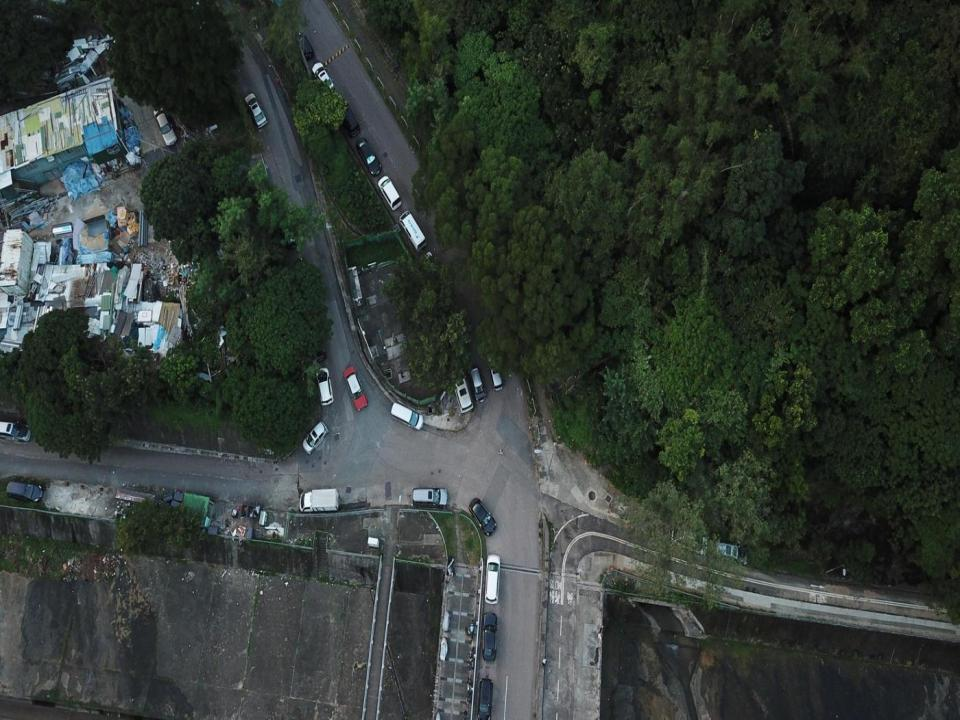car: (468, 497, 497, 536), (344, 366, 368, 412), (671, 527, 708, 555), (390, 402, 424, 431), (154, 106, 178, 146), (452, 366, 472, 412), (336, 99, 360, 137), (357, 137, 381, 175), (244, 92, 268, 129), (302, 421, 328, 455), (377, 176, 402, 210), (715, 541, 749, 565), (312, 61, 335, 94), (412, 487, 448, 507), (309, 326, 328, 363), (316, 367, 334, 406), (483, 612, 497, 662), (476, 678, 492, 719), (0, 420, 32, 440), (487, 353, 503, 390), (295, 31, 315, 60), (470, 367, 486, 402)
truck: (300, 489, 338, 511)
van: (400, 211, 427, 253), (484, 554, 500, 604), (6, 481, 43, 502)
